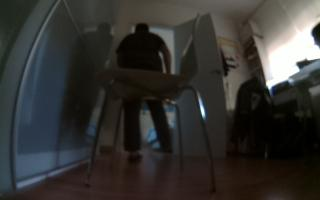person: (113, 16, 178, 169)
